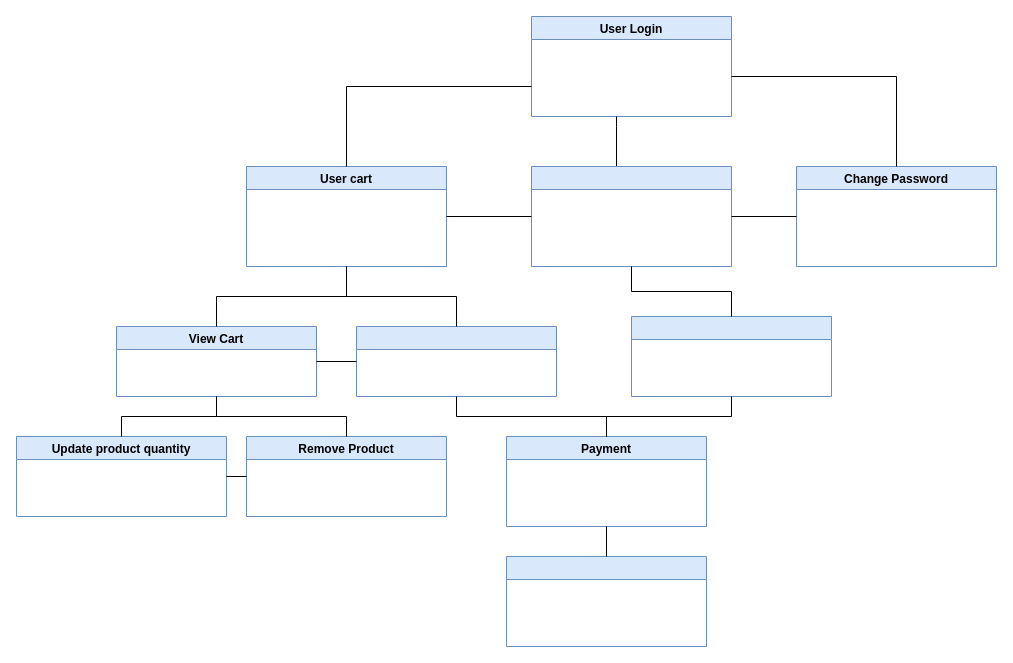
Image size: 1013x663. Some labels were removed from this diagram. Each missing label, with the centre of its shape:
Check out cart: the point at 456,361
Generate invoice: the point at 606,601
View previews purchases: the point at 731,356
View User Account: the point at 631,216
